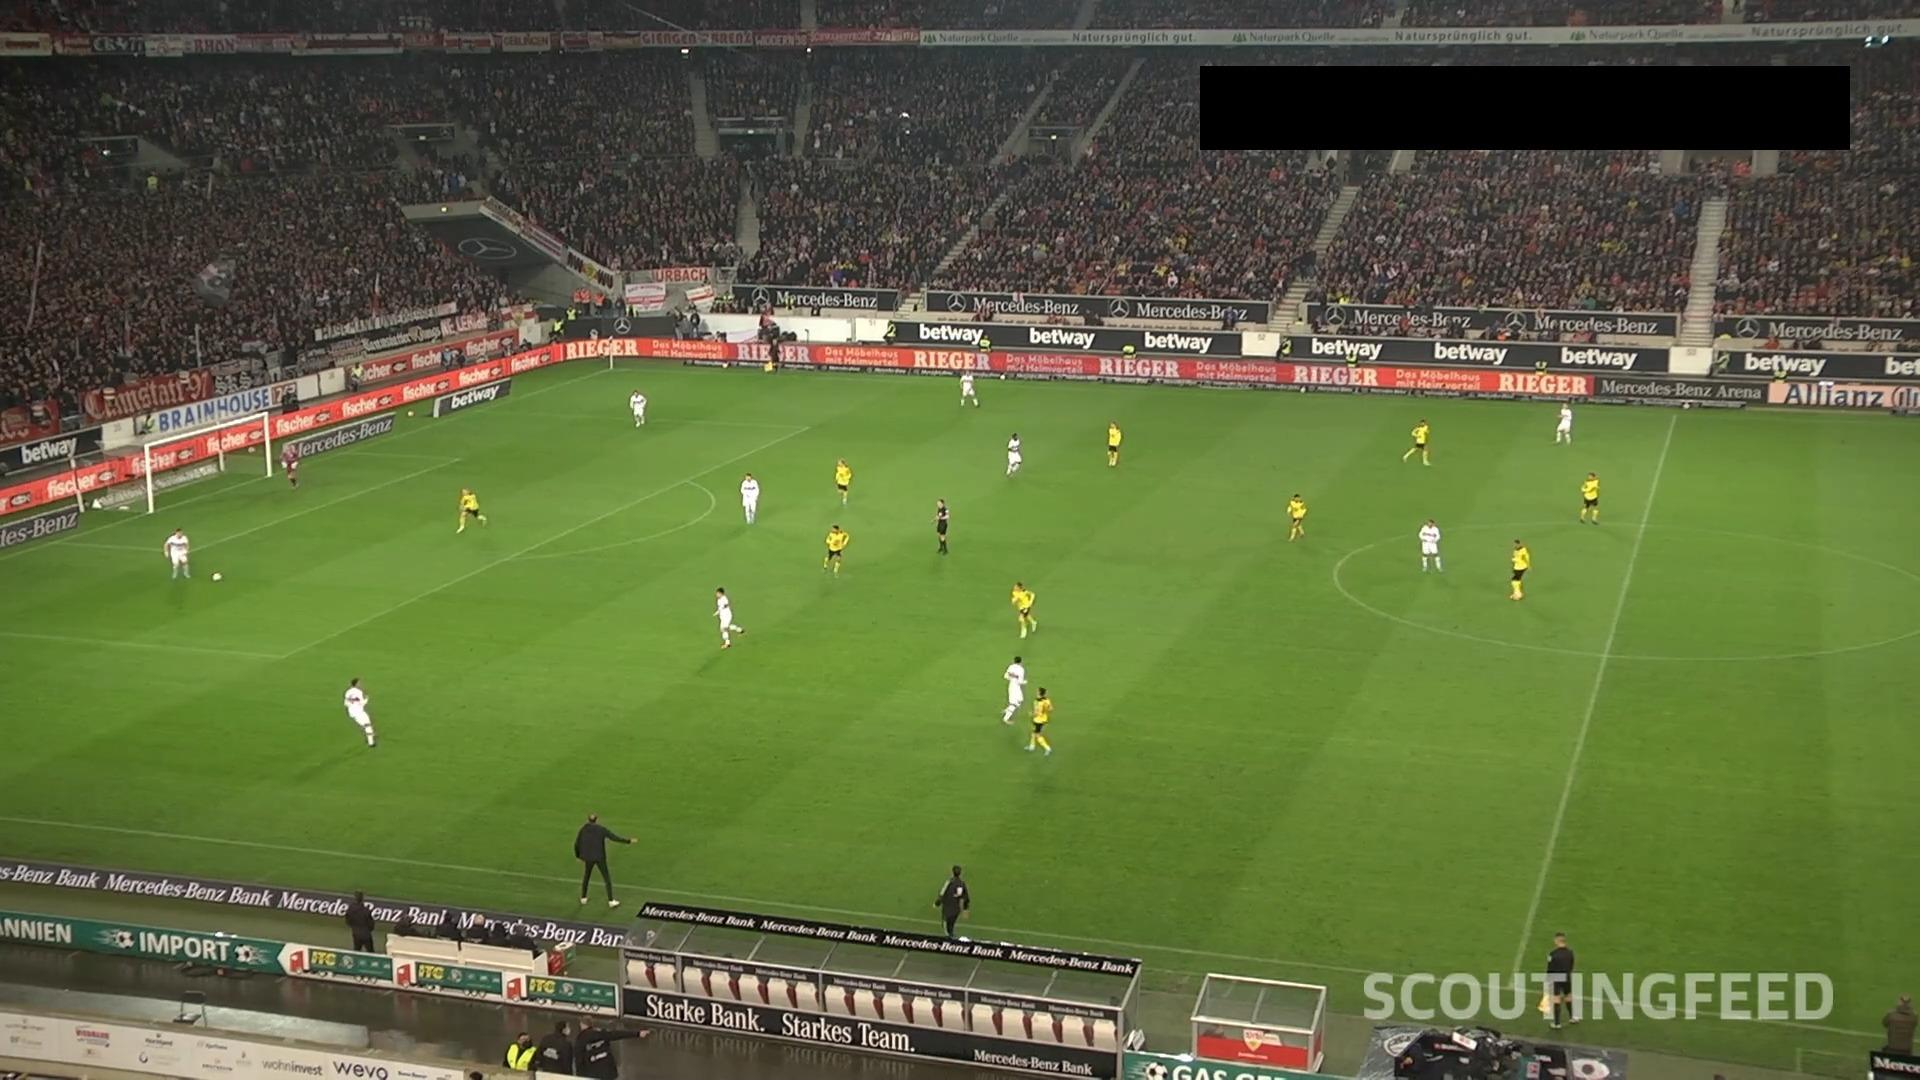ball: (211, 571, 223, 583)
